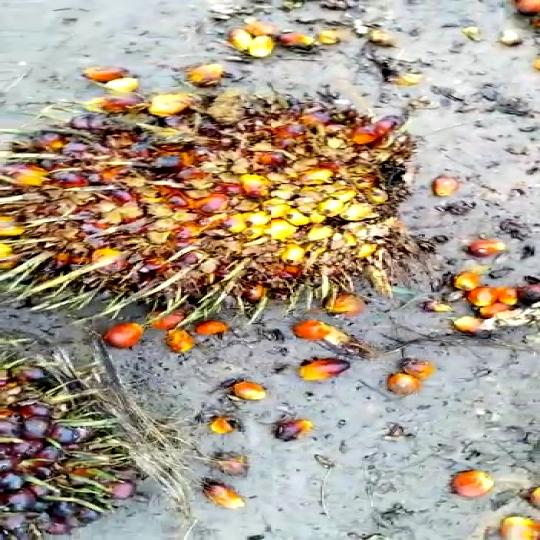terlalu masak: (0, 83, 434, 338)
